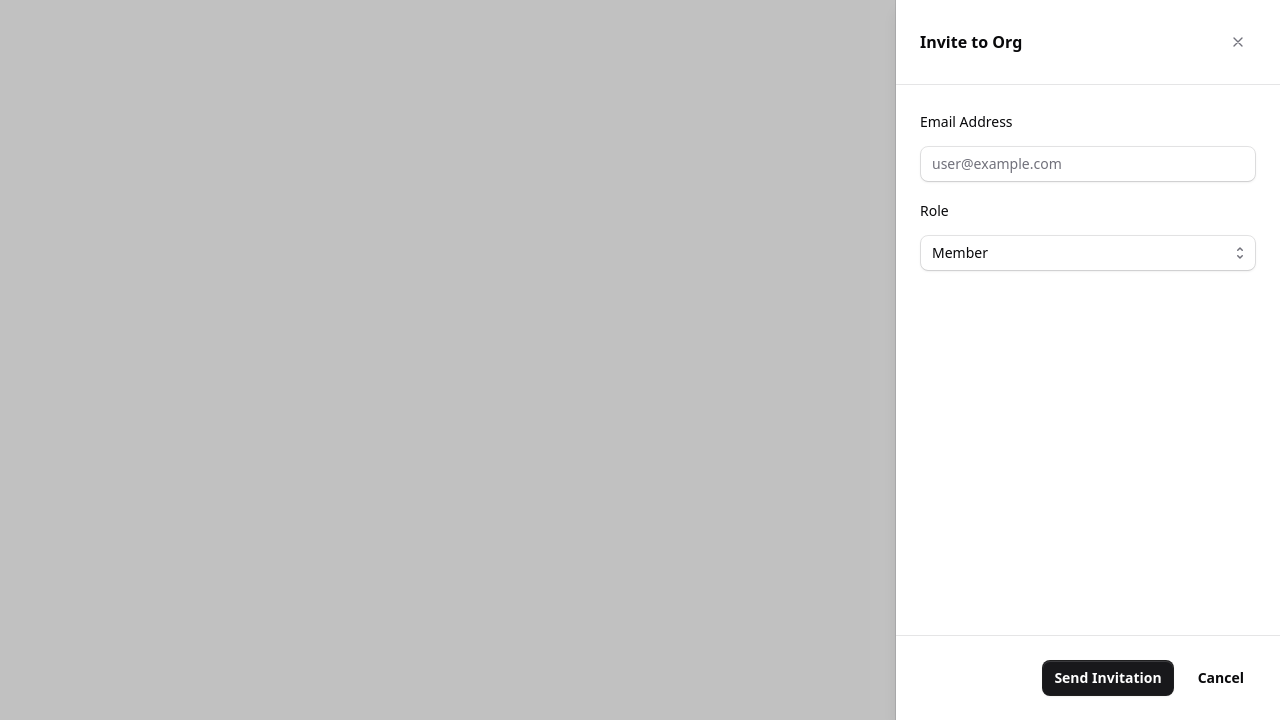
Test: AddMemberDialog — invite flow › shows an error message when the invite fails
Type "x@test.com" into the field labelled "Email Address". click: (1088, 164)
box: [920,146,1256,182]
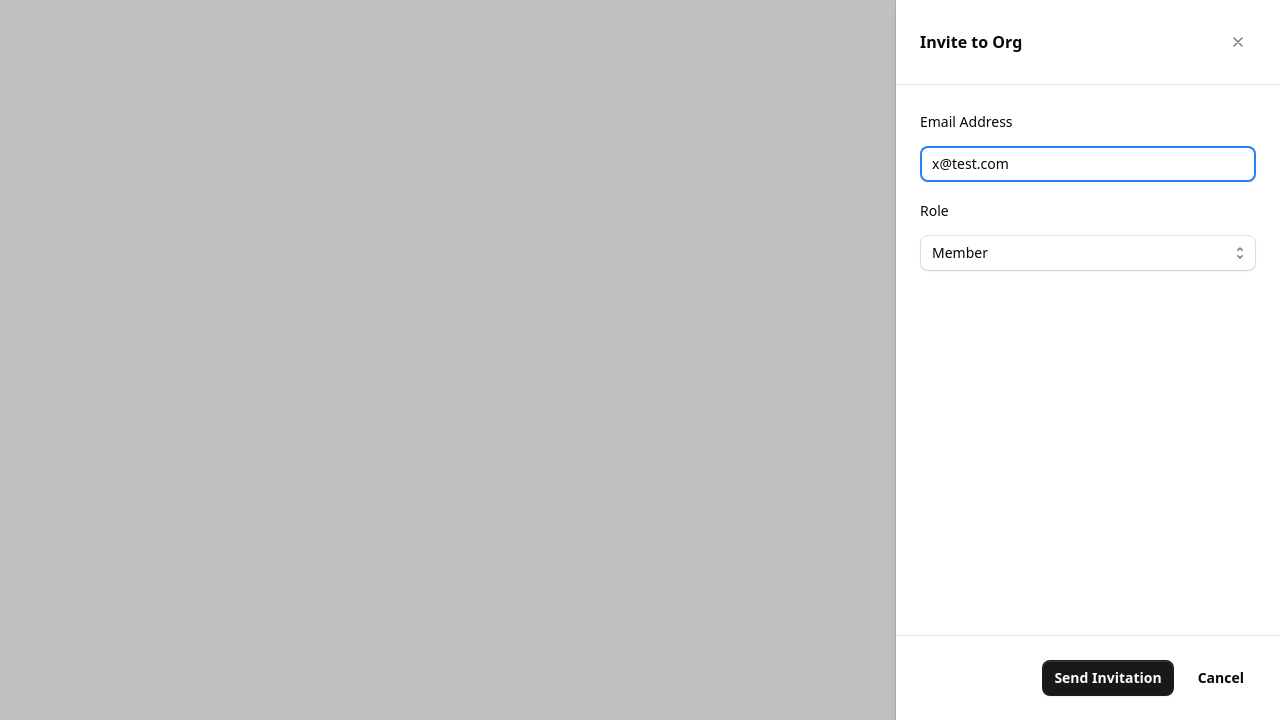
Click the button "Send Invitation". click: (1108, 678)
box: [1042,660,1174,696]
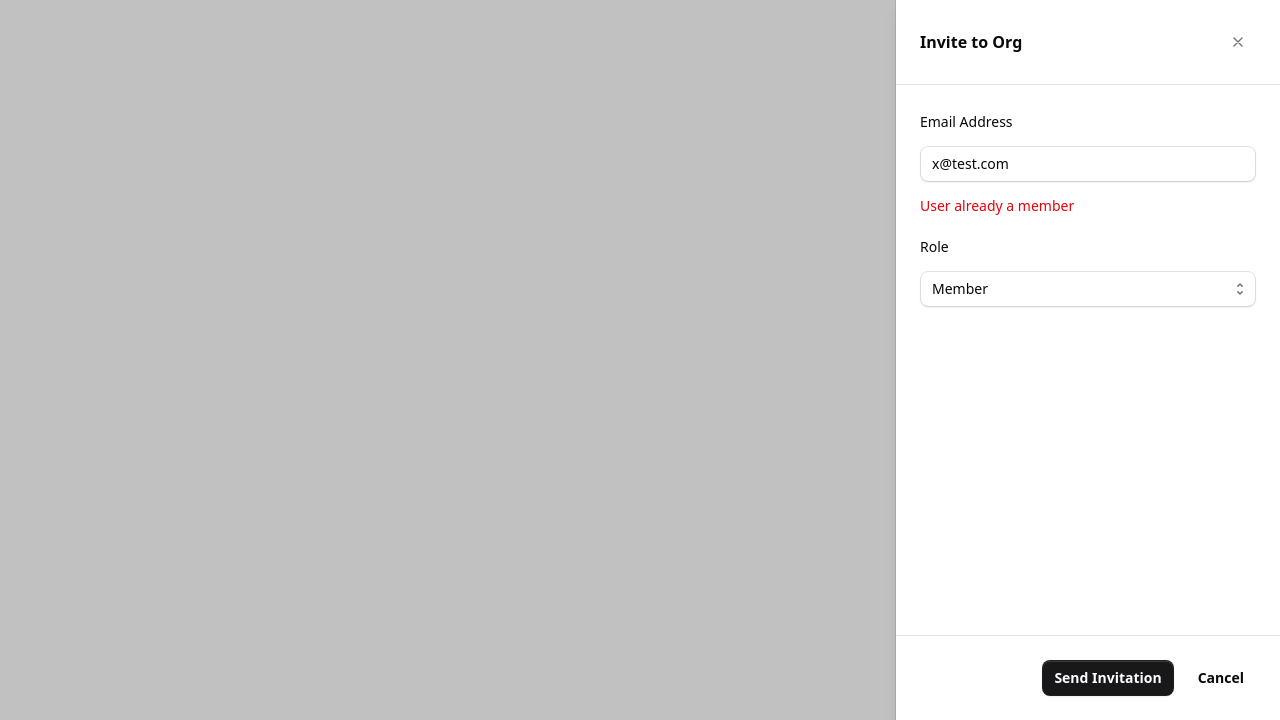
expect the text "User already a member" is shown: met, box [920,196,1074,215]
